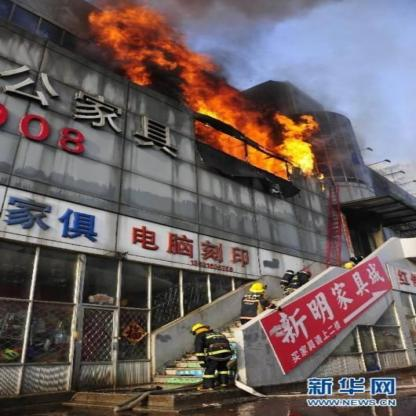fire: (182, 80, 325, 181), (104, 7, 216, 90)
